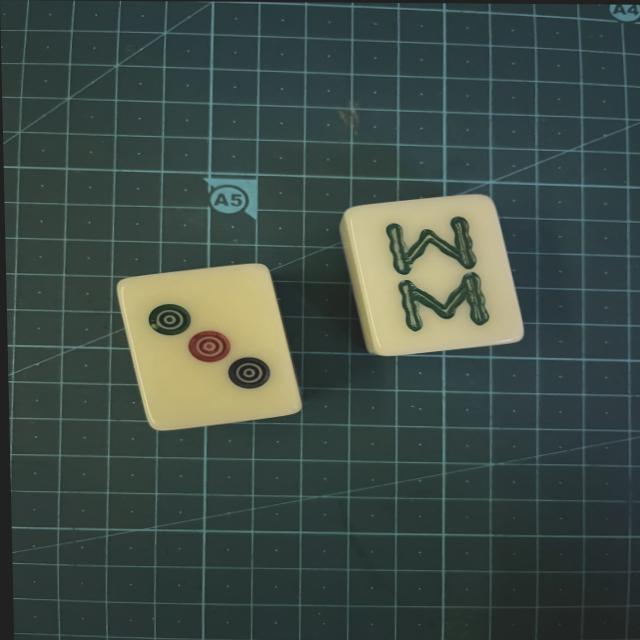3D: (139, 296, 274, 401)
8B: (374, 212, 493, 338)
